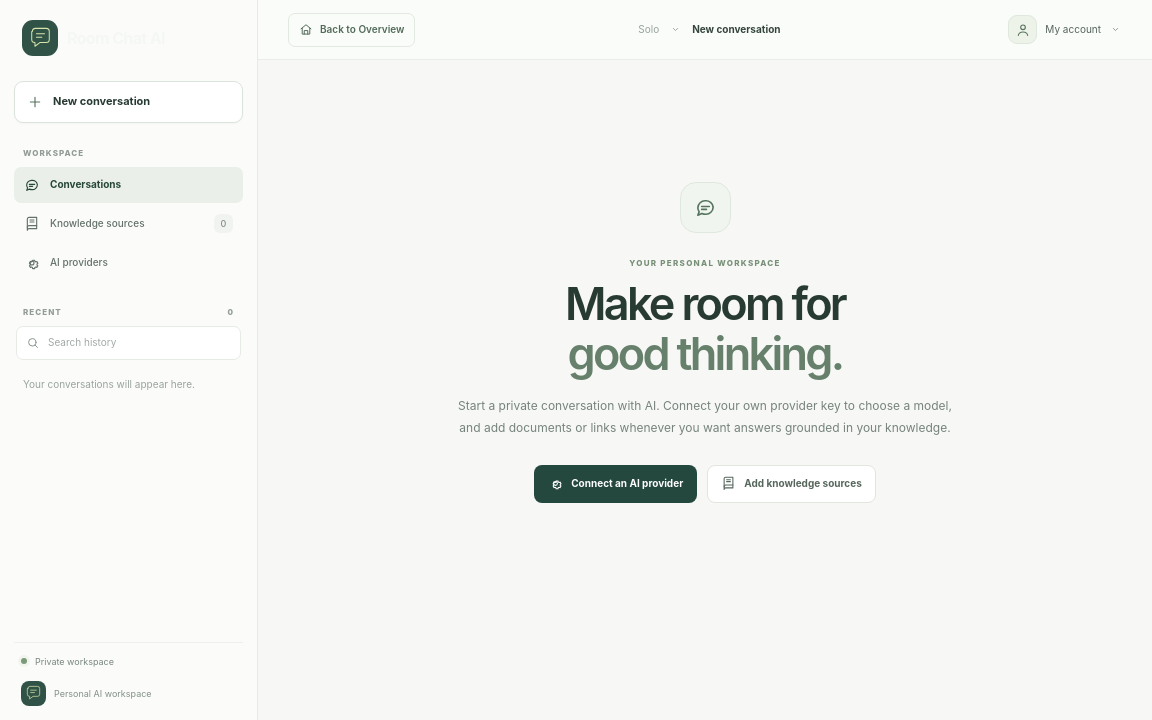
Test: Solo workspace › renders the private first-use state and knowledge empty state
Expected: the heading "Make room for" is shown, [565,279,845,378]
Expected: the text "Connect your own provider key" is shown, [458,398,952,435]
Click the button "Knowledge sources 0" at (128, 224), box [14,206,243,242]
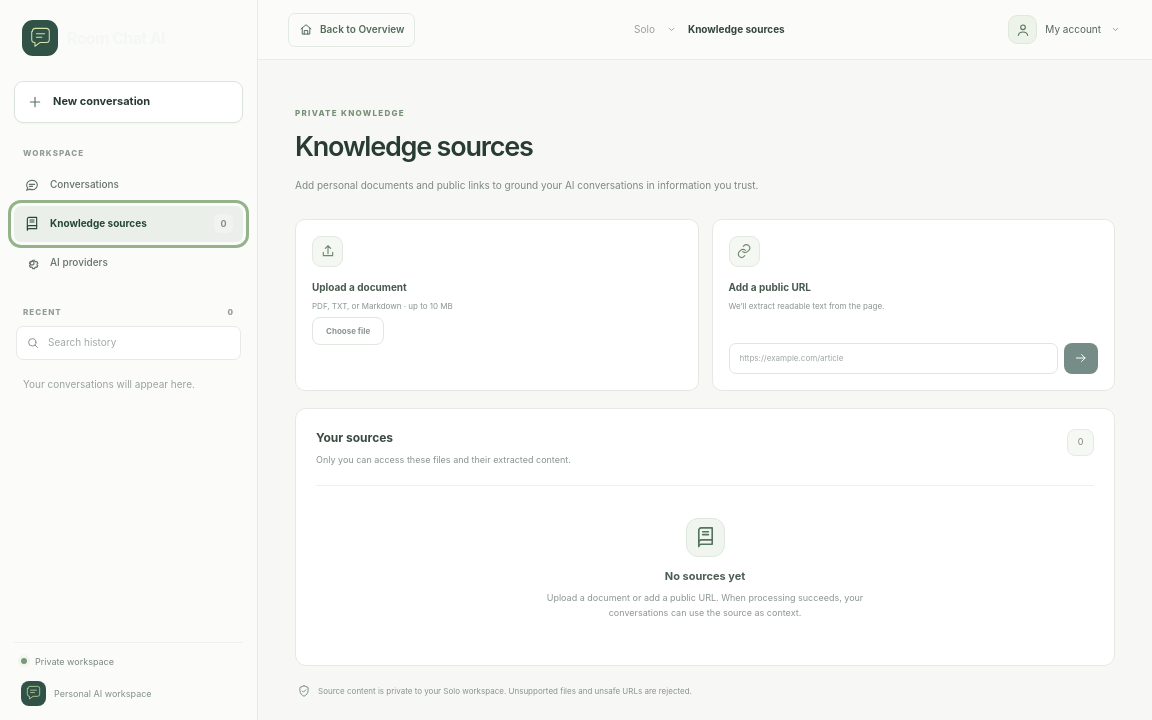
Now the heading "No sources yet" is shown, box [665,568,745,584]
Now the text "Only you can access these files and their extracted content." is shown, box [316,452,571,467]
